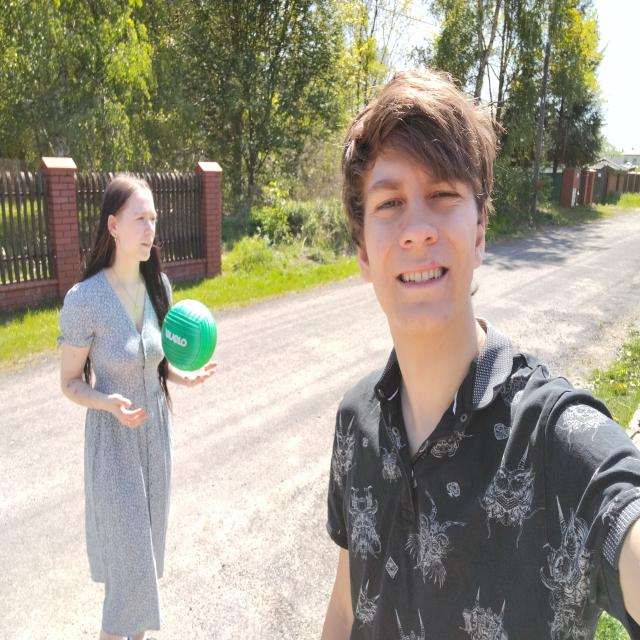zielona: (162, 299, 216, 373)
